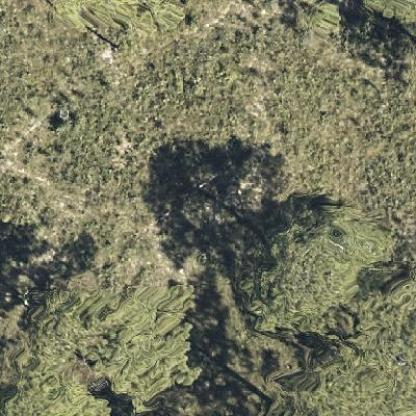tree-top: (261, 267, 413, 415), (238, 191, 374, 333), (95, 276, 198, 404), (50, 1, 191, 35), (288, 1, 342, 35)
